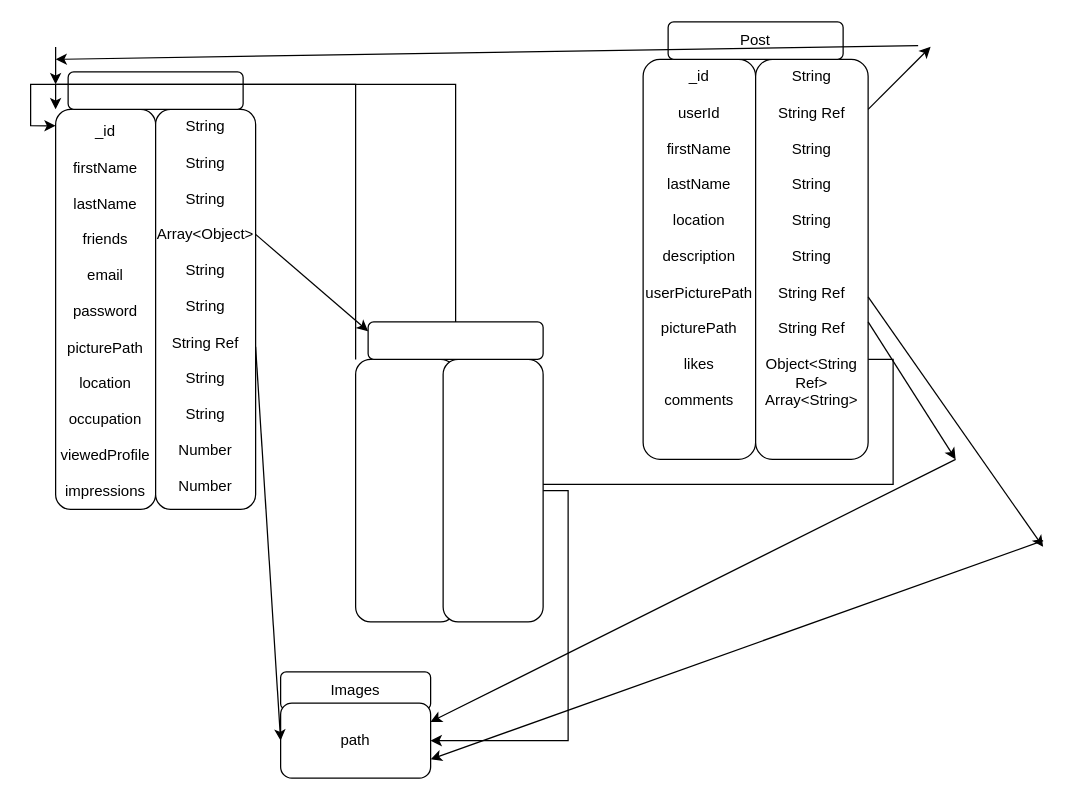
This 1075x800 diagram has some shape labels left out. Each missing label, with the centre of its shape:
"_id firstName lastName picturePath occupation location" goes at [405,490].
"Friend" goes at [455,340].
"String String String String Ref String String" goes at [492,490].
"User" goes at [155,90].
